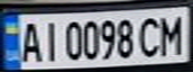0: (63, 17, 84, 61), (81, 16, 100, 61)
8: (115, 16, 139, 60)
9: (100, 16, 118, 61)
A: (15, 18, 45, 63)
C: (136, 14, 166, 57)
I: (39, 18, 60, 62)
M: (154, 11, 187, 56)
